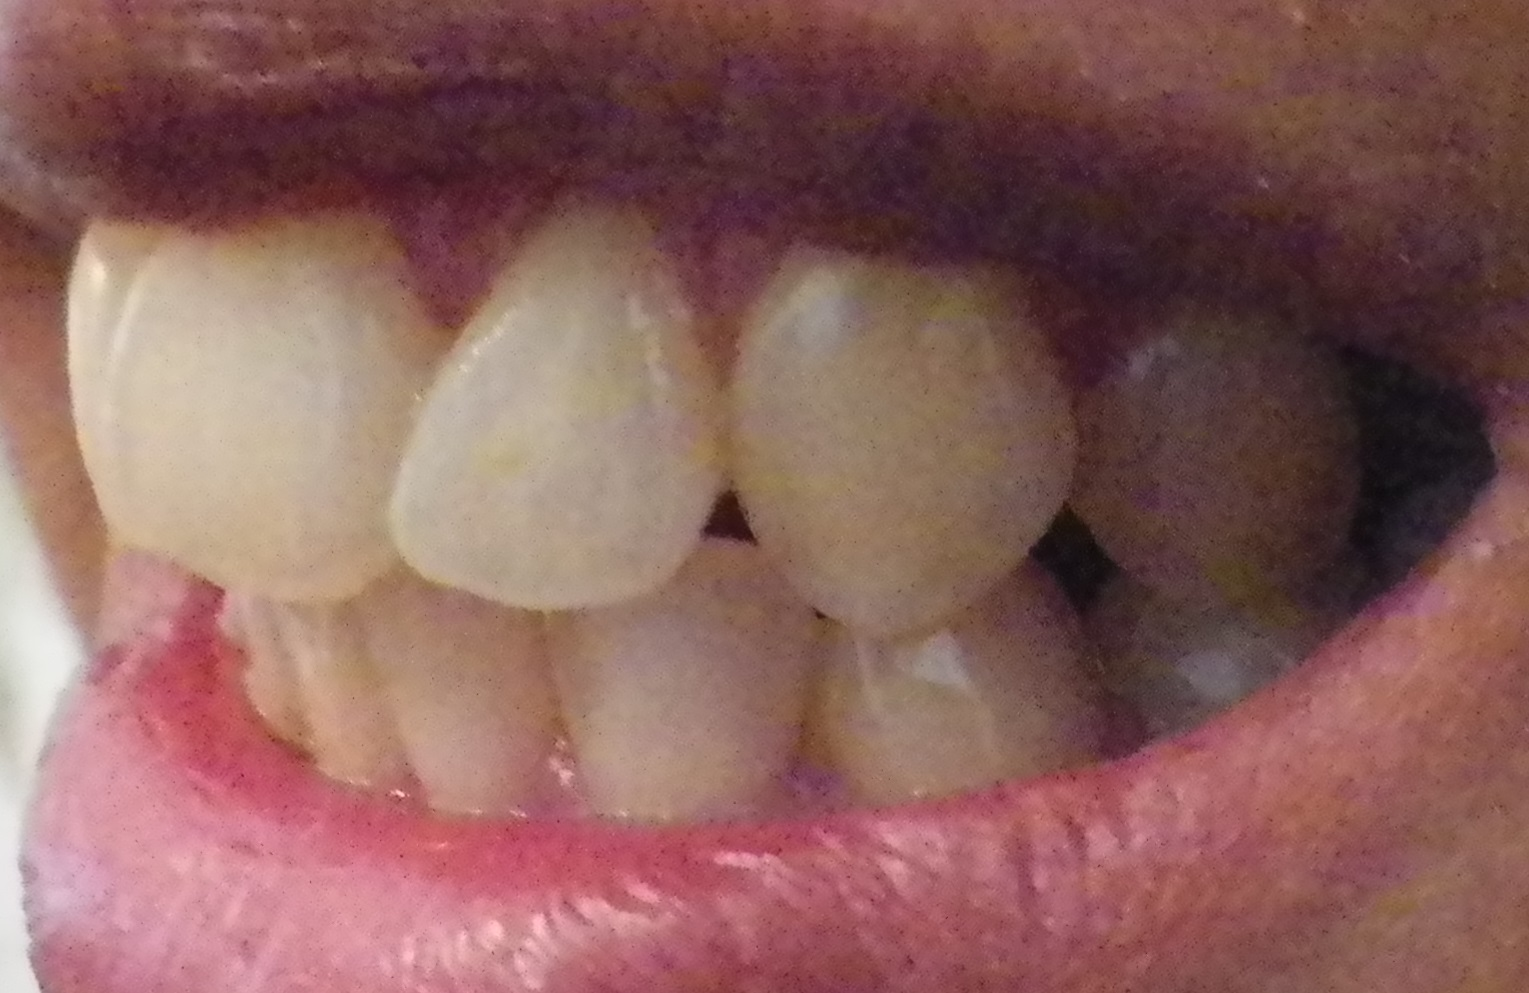boca: (56, 196, 1364, 818)
